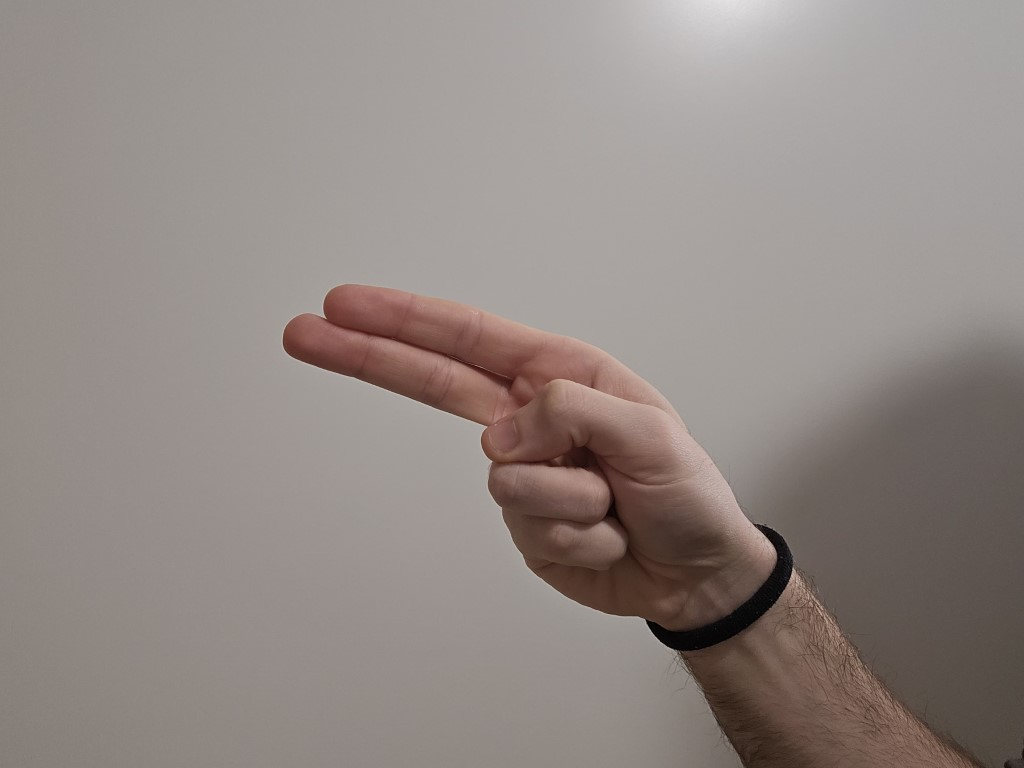h: (264, 263, 738, 619)
